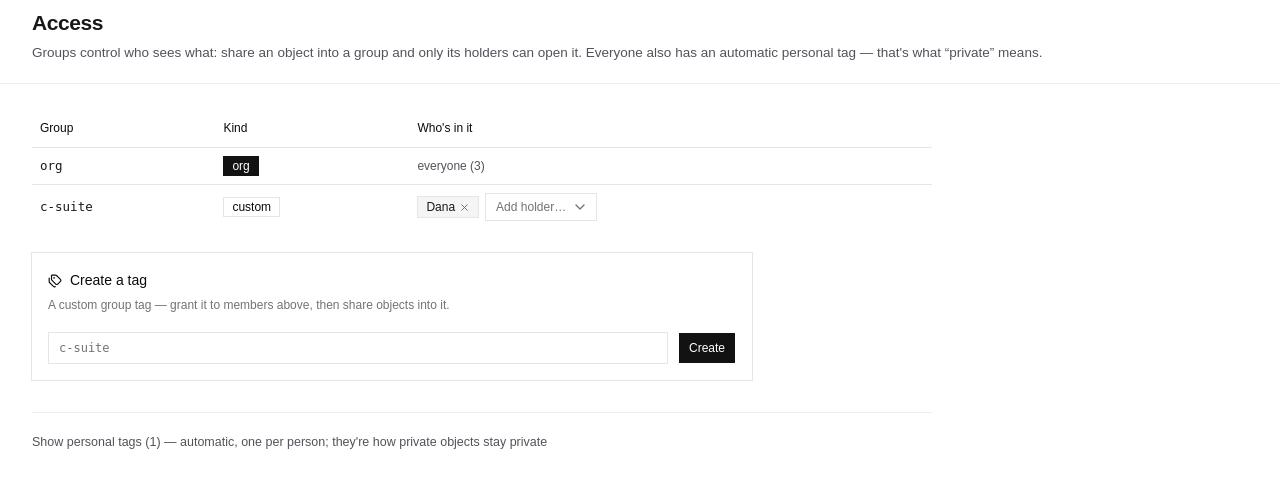
Test: <AccessView /> › leads with GROUPS; personal identity tags collapse into an expandable footnote
Check: the text "c-suite" is shown, box [32, 185, 215, 229]
Check: the text "org" is shown 2 times, box [32, 148, 215, 185]; [223, 156, 259, 176]
Click the button "Show personal tags (1)": [290, 442] box [32, 432, 547, 451]
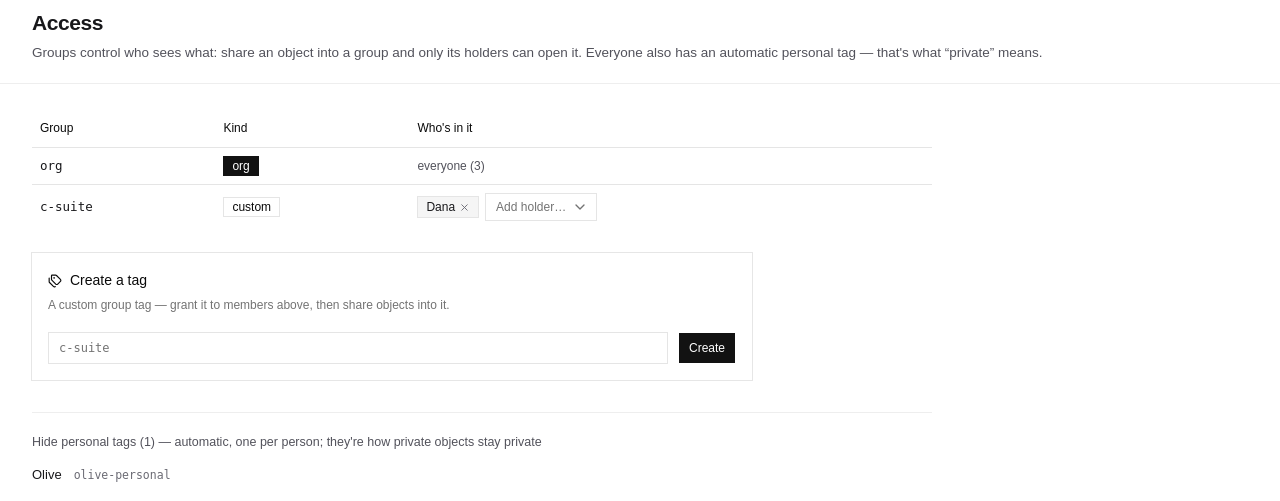
Check: the text "olive-personal" is shown, box [74, 466, 170, 484]
Check: the text "Olive" is shown, box [32, 464, 62, 484]
